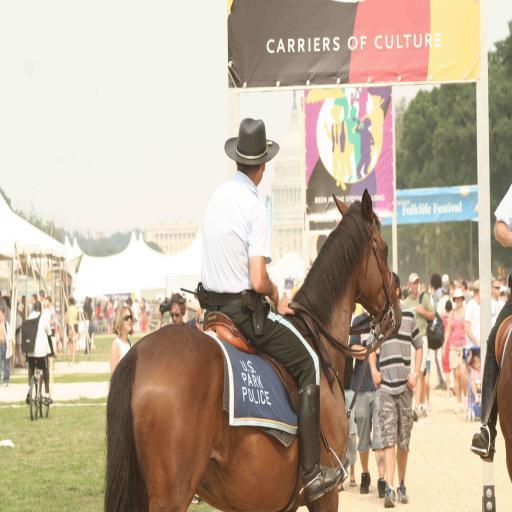horse: (100, 186, 404, 512), (495, 322, 512, 480)
